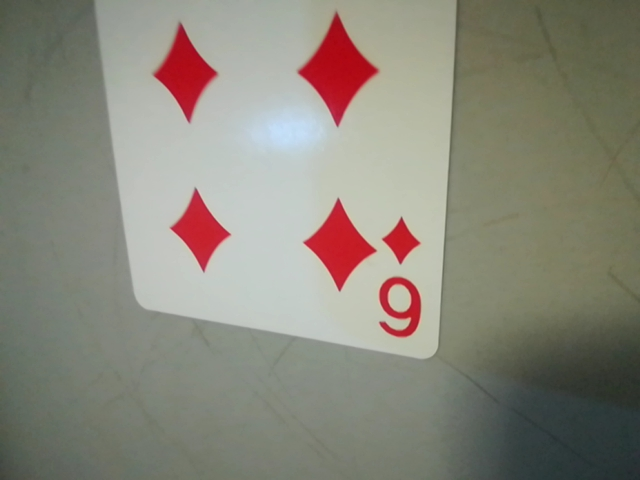fk 6: (365, 211, 437, 350)
